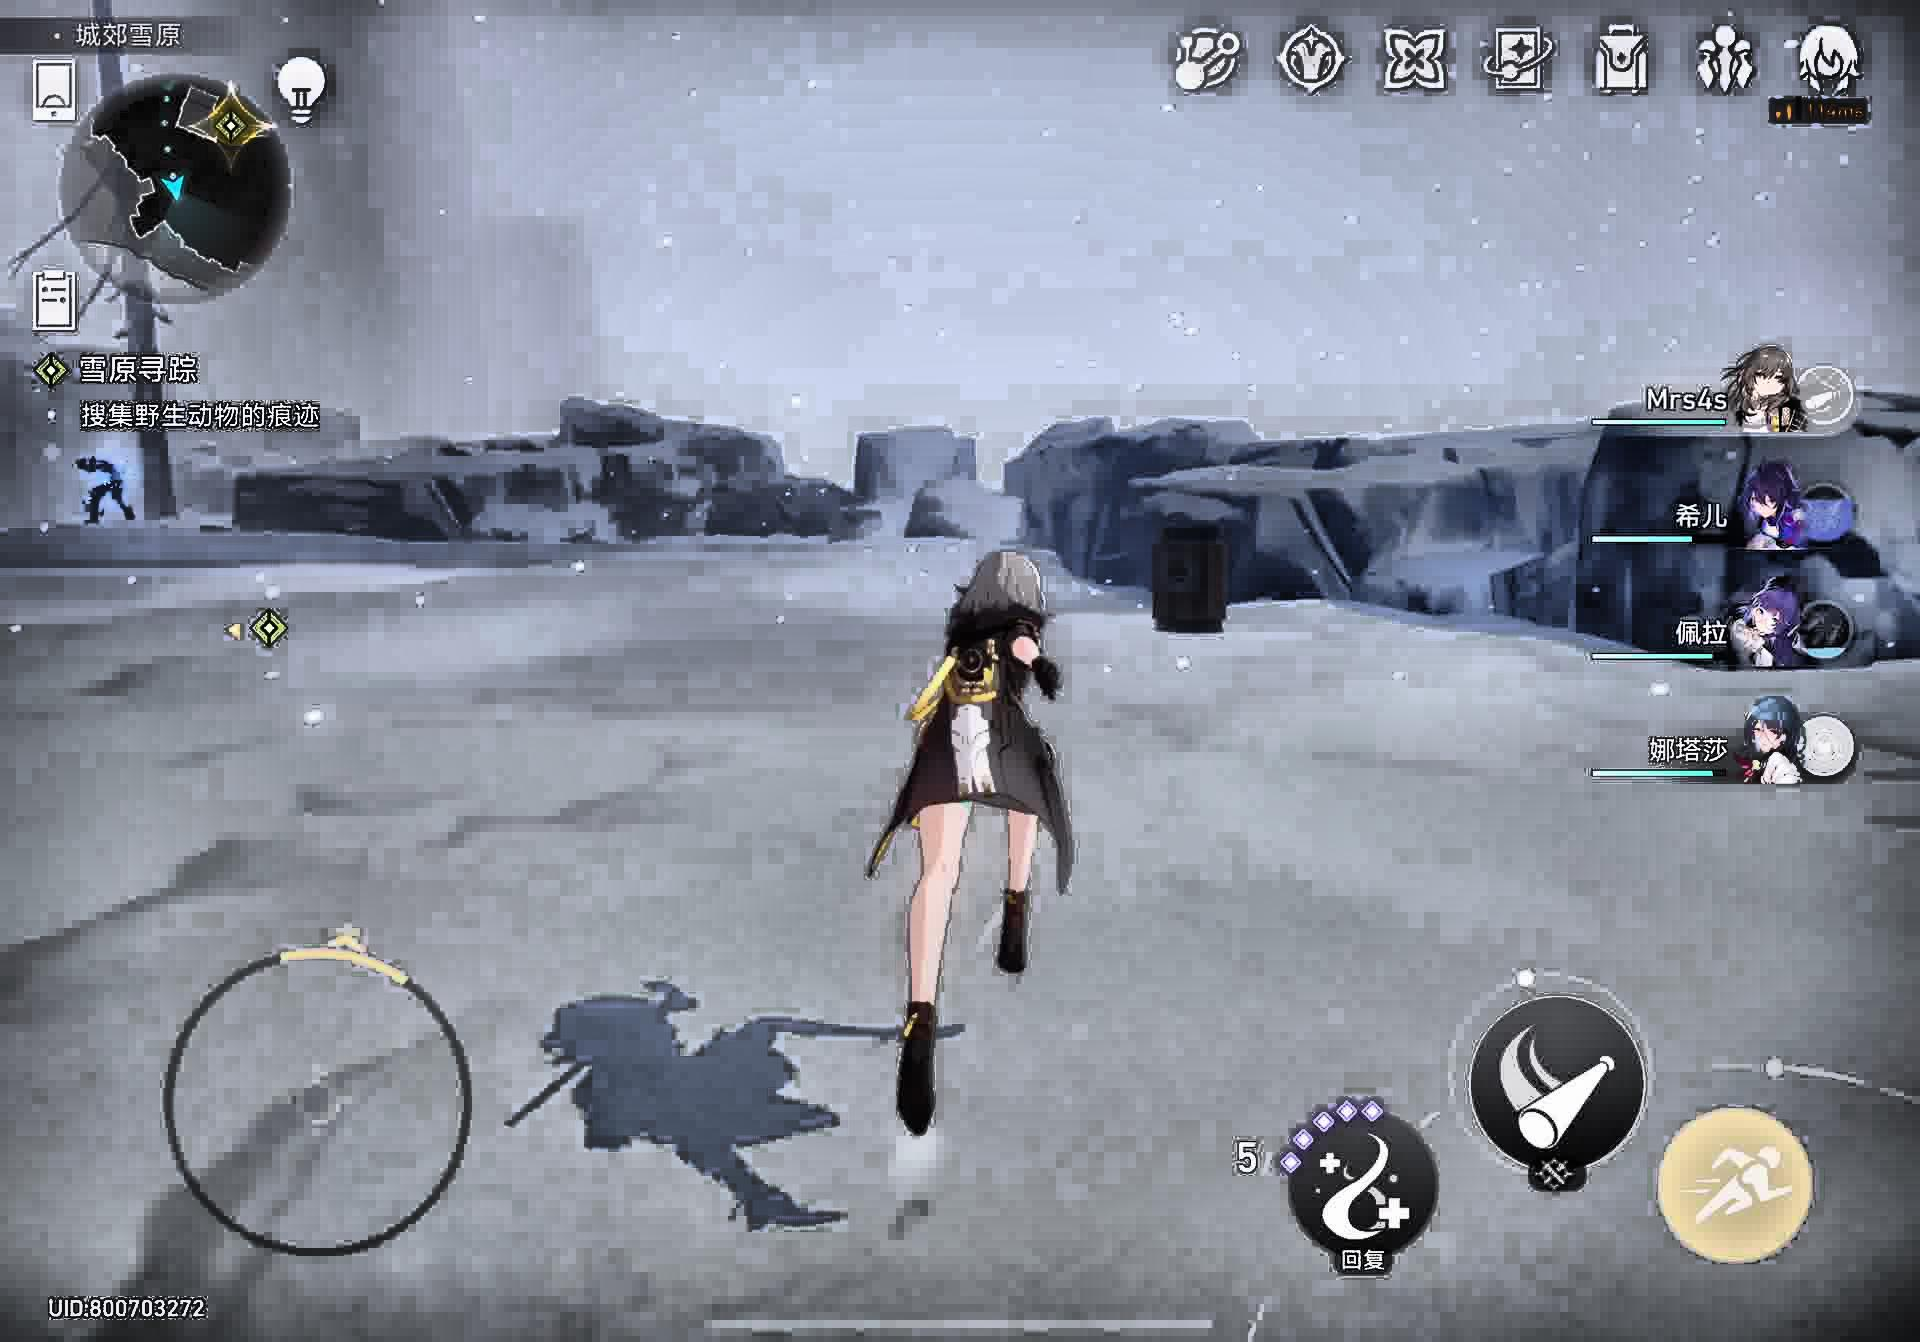Box: (1145, 522, 1244, 640)
Enemy: (70, 448, 139, 538)
Self: (865, 556, 1085, 1174)
